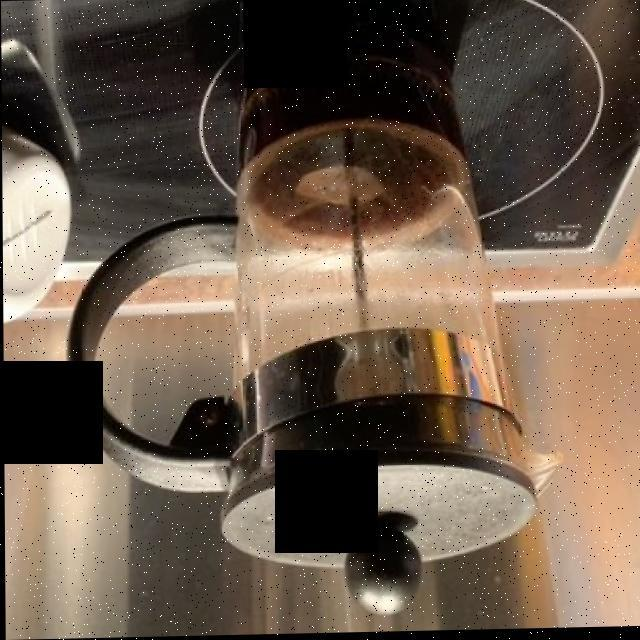coffee: (242, 43, 466, 238)
